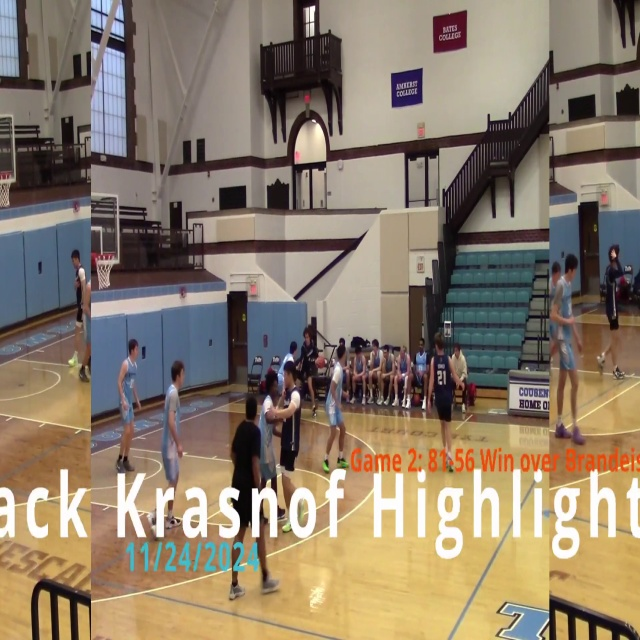Basketball: (266, 408, 278, 424), (68, 358, 76, 367)
